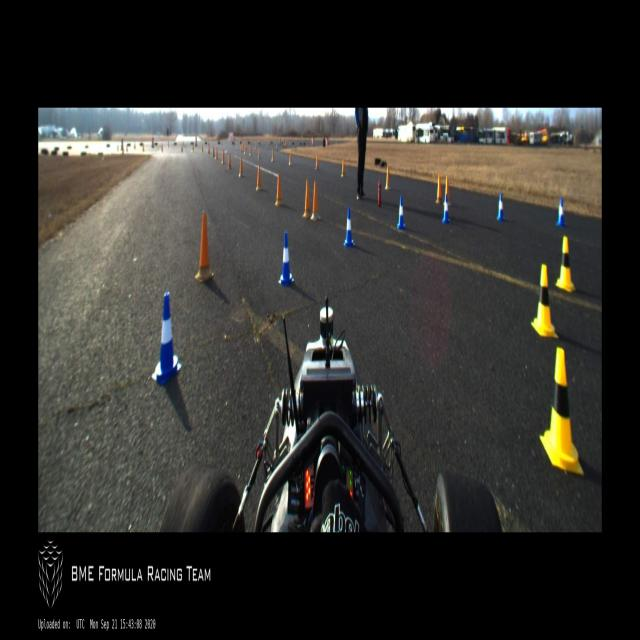blue_cone: (152, 292, 182, 386), (278, 232, 294, 286), (343, 207, 355, 247), (556, 199, 566, 226), (397, 197, 405, 229), (497, 193, 505, 222), (442, 195, 450, 223)
unknown_cone: (195, 213, 214, 282), (310, 181, 320, 221), (303, 179, 312, 218), (275, 172, 283, 207), (256, 164, 261, 190), (385, 166, 390, 190)
yellow_cone: (540, 348, 584, 476), (531, 264, 558, 338), (555, 237, 575, 292)
